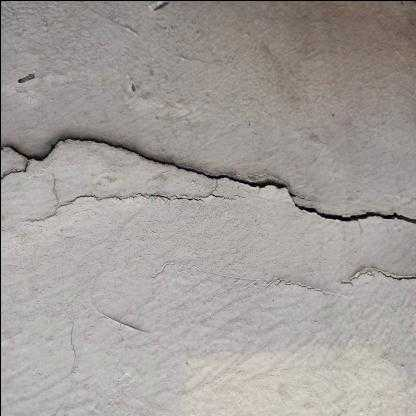crack: (0, 131, 416, 226)
